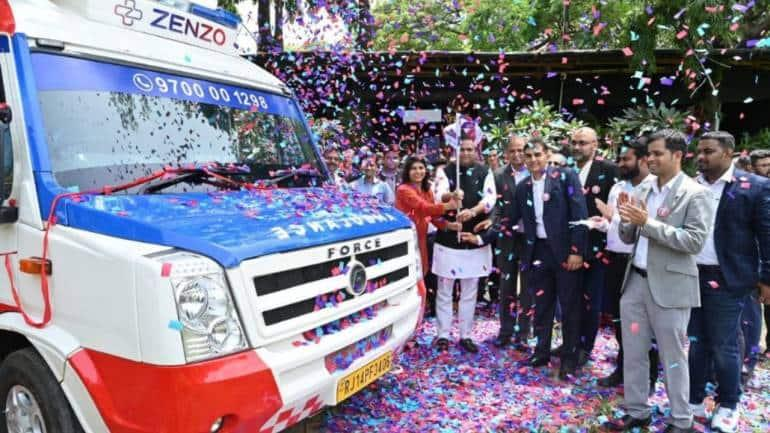ER: (0, 0, 425, 432)
